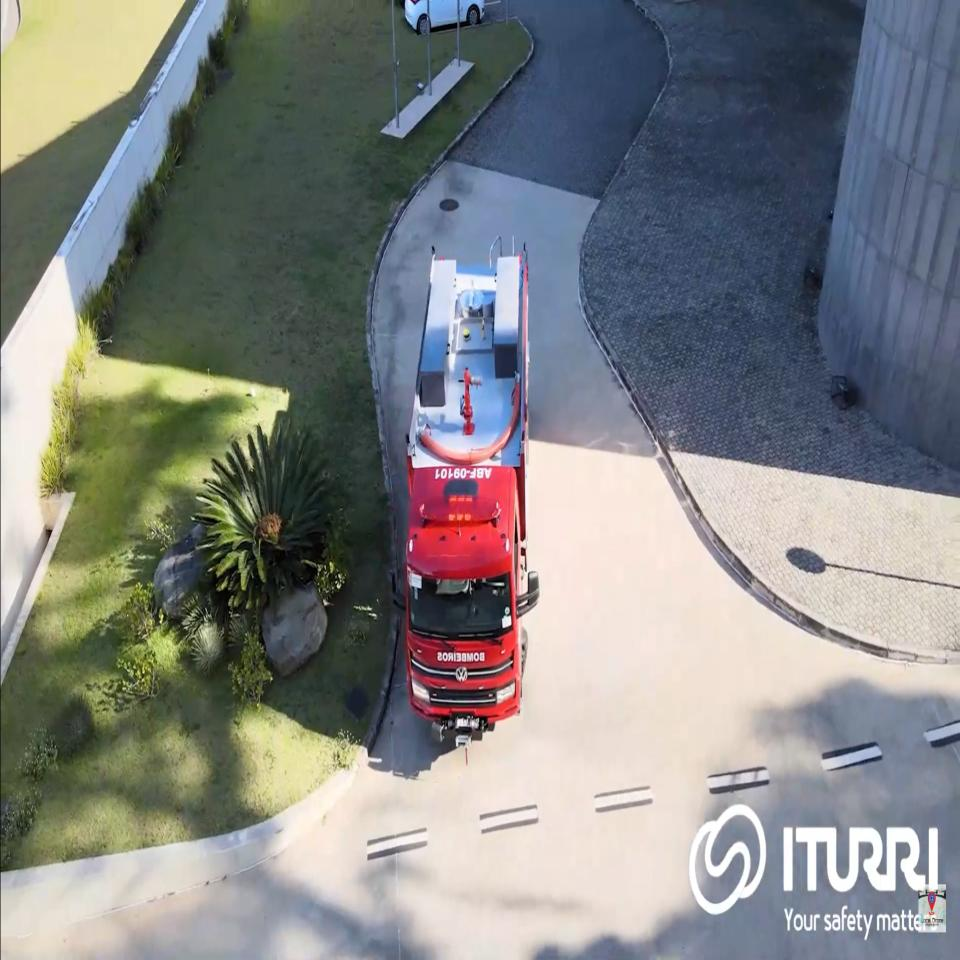viatura: (386, 231, 543, 750)
